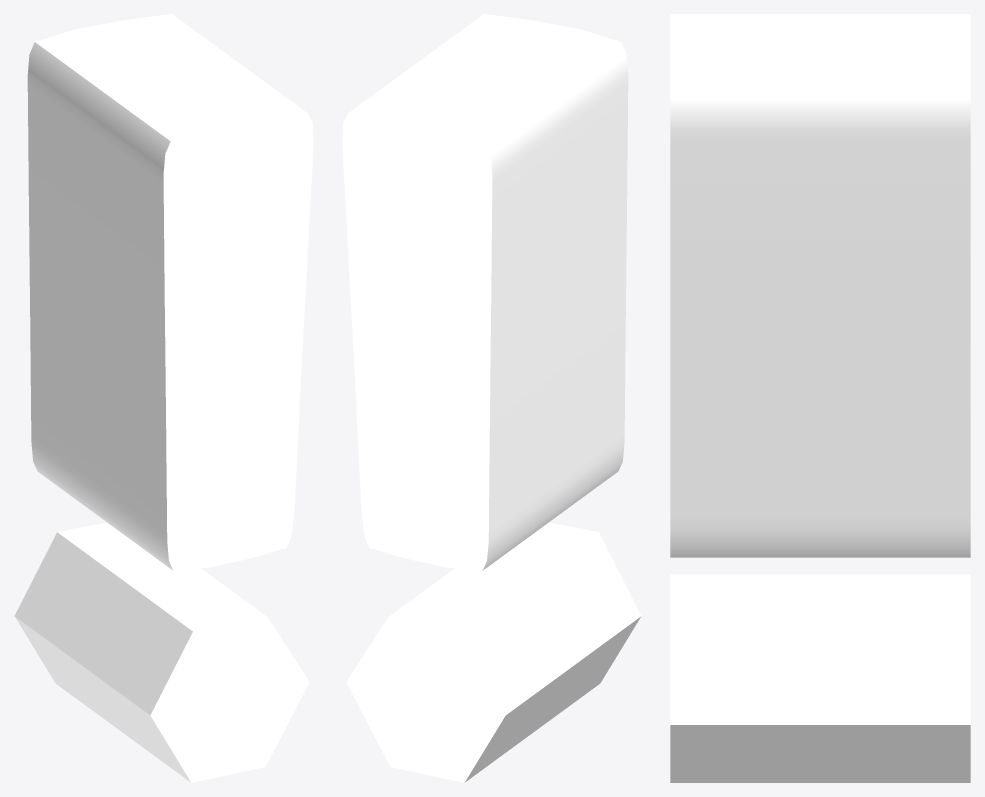
Rendered from d985f85b-5845-4168-9b7d-334e2a28bdf5.glb.
3 renders of one model, left to right at view 1: azimuth 30°, elevation 25°; view 2: azimuth 150°, elevation 25°; view 3: azimuth 270°, elevation 25°, orthographic. The views are drawn at different scales.
Visible parts, largest first — view 1: !_Zyzol_White; view 2: !_Zyzol_White; view 3: !_Zyzol_White.
Part boxes in pixels (x1,y1,x2,y2): !_Zyzol_White: (14, 14, 313, 782); !_Zyzol_White: (342, 14, 641, 782); !_Zyzol_White: (670, 14, 970, 782).
Size of what is drawn, in the model's own units: 0.0312 by 0.119 by 0.045.
Materials: 2 (2 with a texture image).
